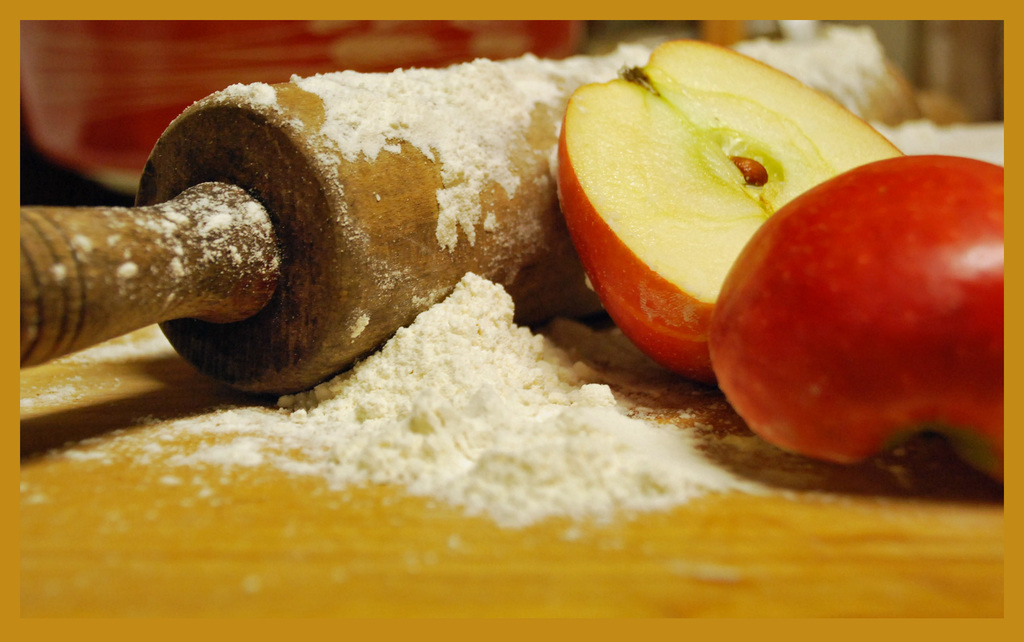Apple: (547, 34, 911, 390), (707, 147, 1005, 483)
